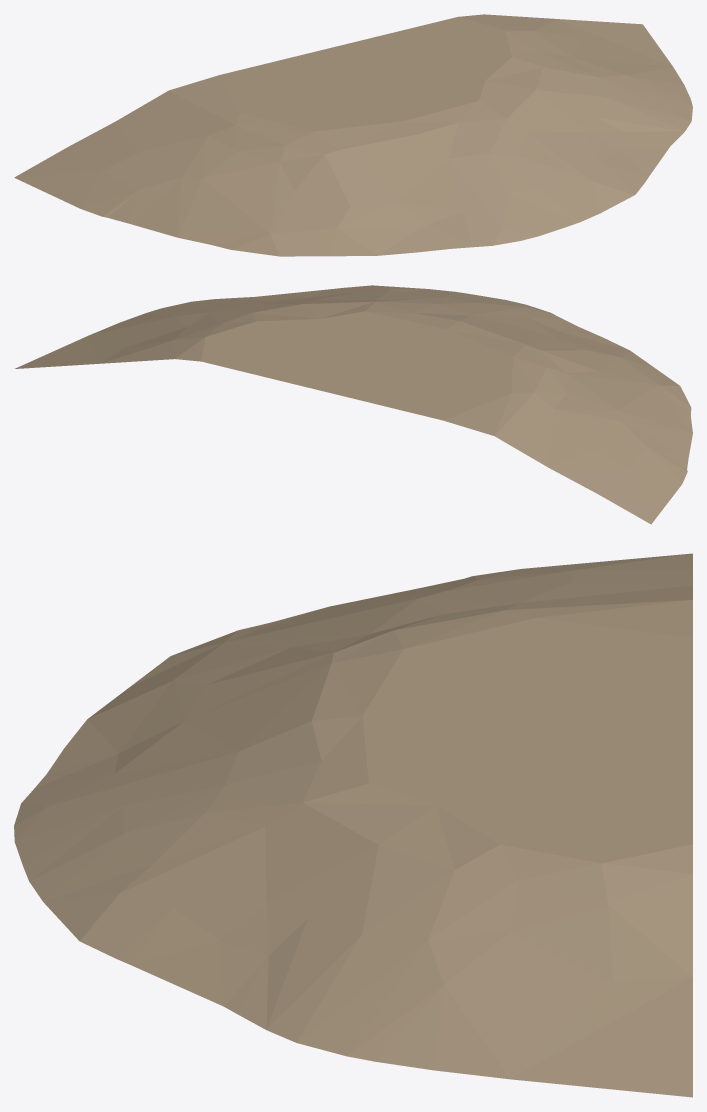
The model's file is SM_Envr_Nature_Terrain_Ground_Beach_03.fbx.
3 renders of one model, top to bottom at view 1: azimuth 30°, elevation 25°; view 2: azimuth 150°, elevation 25°; view 3: azimuth 270°, elevation 25°, orthographic. The views are drawn at different scales.
Visible parts, largest first — view 1: SM_Envr_Nature_Terrain_Ground_Beach_03; view 2: SM_Envr_Nature_Terrain_Ground_Beach_03; view 3: SM_Envr_Nature_Terrain_Ground_Beach_03.
Boxes of the visible parts, left/top/right/bottom form: SM_Envr_Nature_Terrain_Ground_Beach_03: left=14, top=14, right=692, bottom=256; SM_Envr_Nature_Terrain_Ground_Beach_03: left=15, top=285, right=692, bottom=524; SM_Envr_Nature_Terrain_Ground_Beach_03: left=14, top=553, right=692, bottom=1097.
Size of the model in its own units: 6266 by 500 by 3305.
